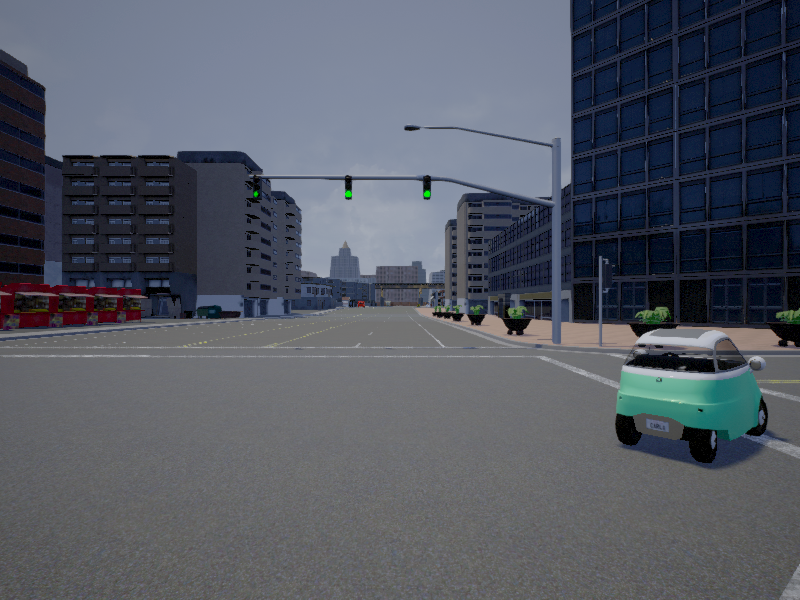Benign: (614, 325, 771, 468)
